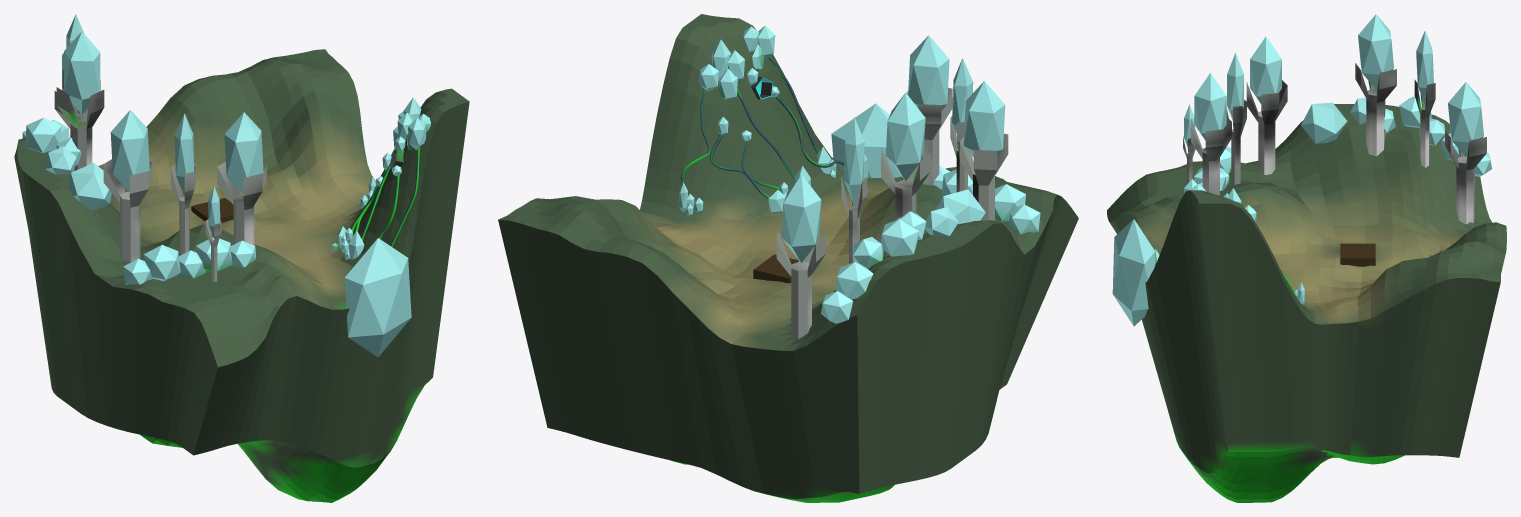
Rendered from jungle island.fbx.
3 views of the same model, side by side, from view 1: azimuth 30°, elevation 25°; view 2: azimuth 150°, elevation 25°; view 3: azimuth 270°, elevation 25° (orthographic). The views are drawn at different scales.
Visible parts, largest first — view 1: Kostka; view 2: Kostka; view 3: Kostka.
Boxes of the visible parts, x1=… form: Kostka: x1=14, y1=14, x2=469, y2=502; Kostka: x1=498, y1=14, x2=1078, y2=502; Kostka: x1=1107, y1=14, x2=1506, y2=502.
Bounding box in the file's own units: 9176 × 10647 × 9527.
Materials: 1 (1 with a texture image).
